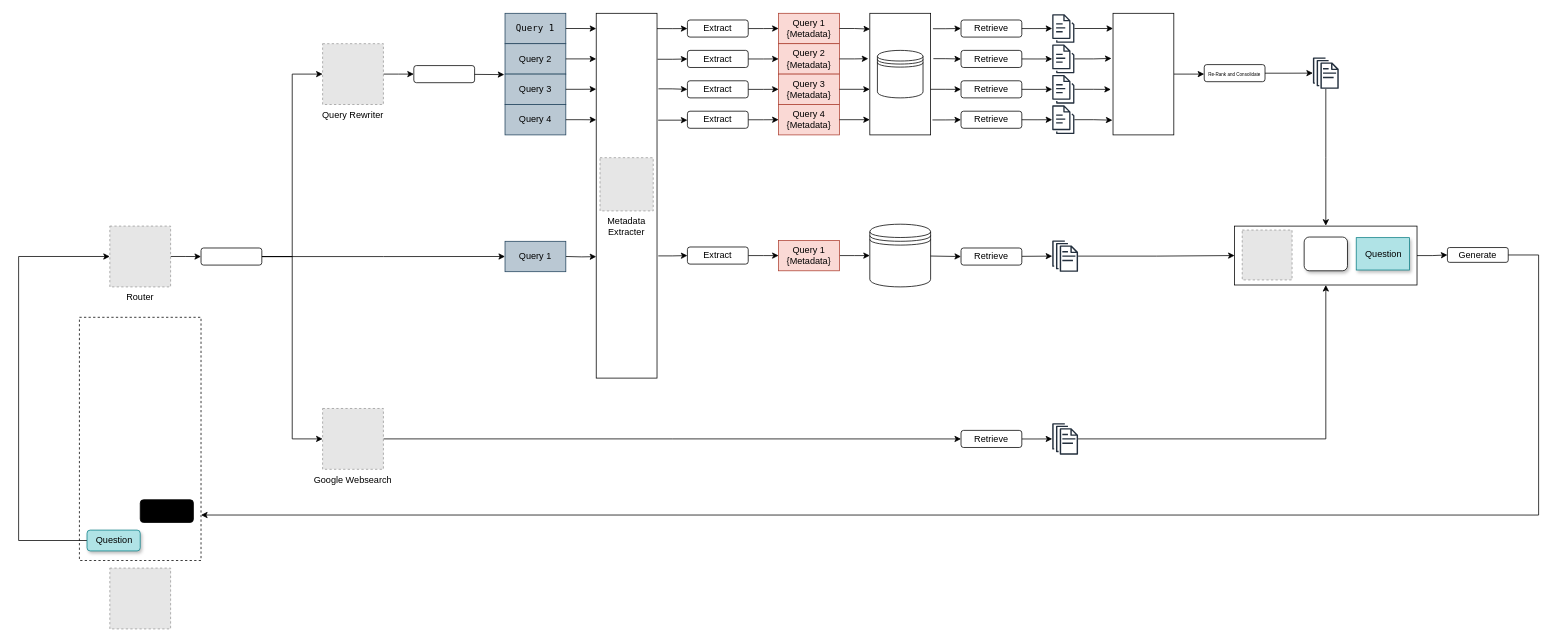
This 1558x642 diagram has some shape labels left out. Grey dashed boxes stand in for pictures. Each missing label, with the centre of its shape:
Abstract Storage: the point at 900,255
Content Storage: the point at 900,74
Re-Write: the point at 444,74
Reciprocal Rank Function: the point at 1143,74
Response: the point at 166,510
Route: the point at 231,256
Template: the point at 1326,254
